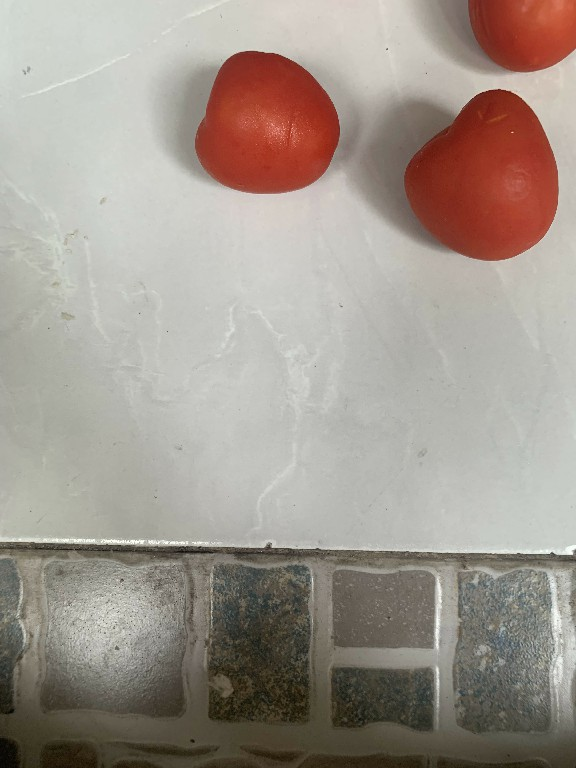OK: (404, 85, 561, 268), (175, 42, 357, 196)
